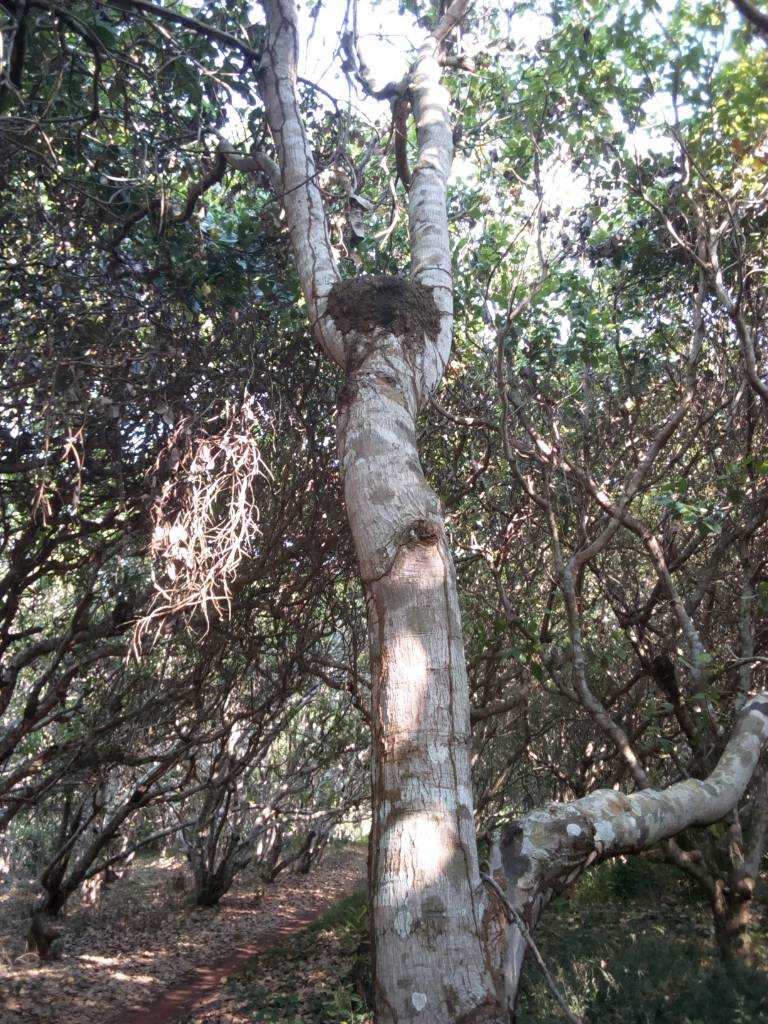Termites: (441, 555, 488, 966), (330, 275, 438, 338), (371, 575, 390, 852)
